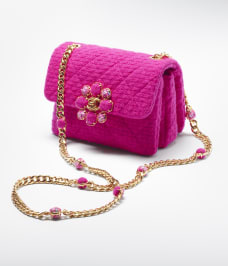channel: (43, 30, 192, 149), (40, 175, 134, 203), (53, 48, 63, 168), (77, 85, 107, 116)
